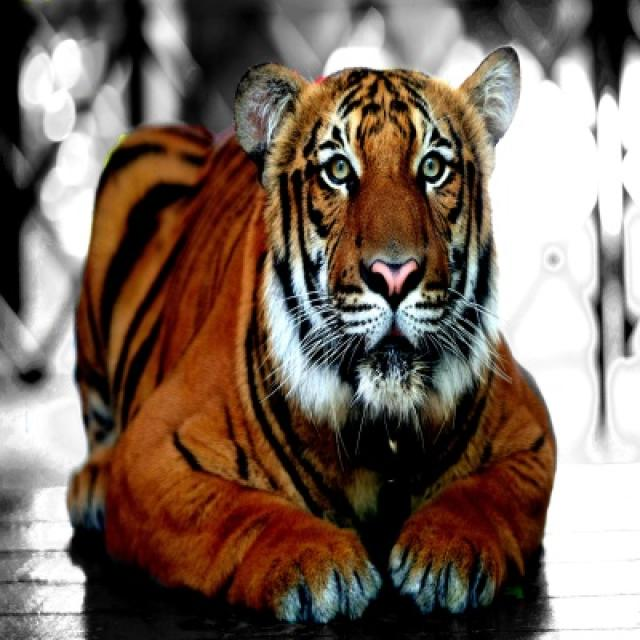Tiger: (70, 43, 556, 623)
